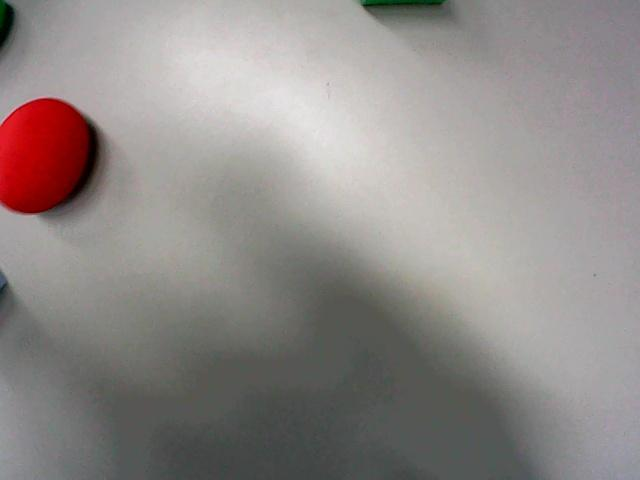blue_block: (0, 272, 6, 290)
